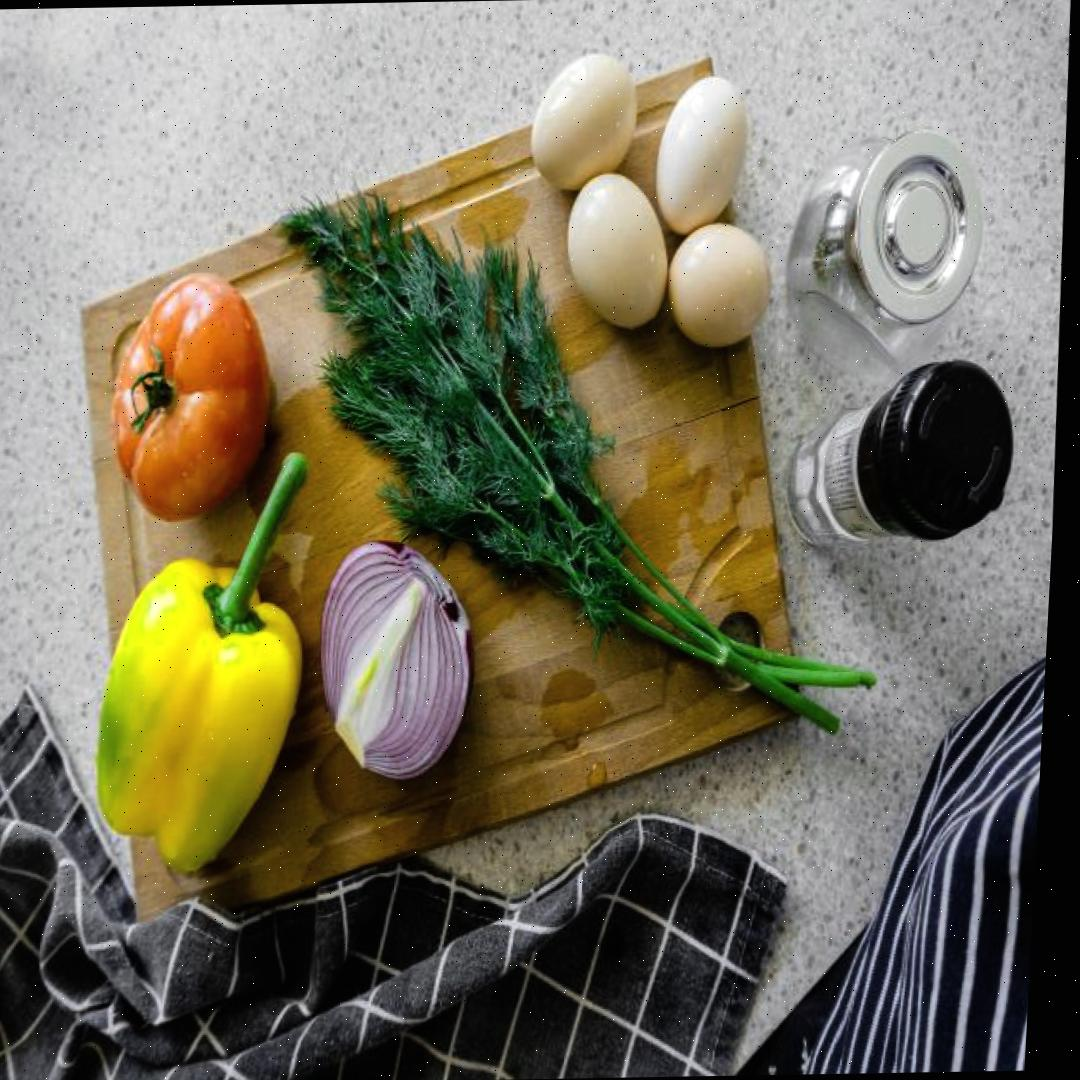matang: (106, 270, 279, 523)
